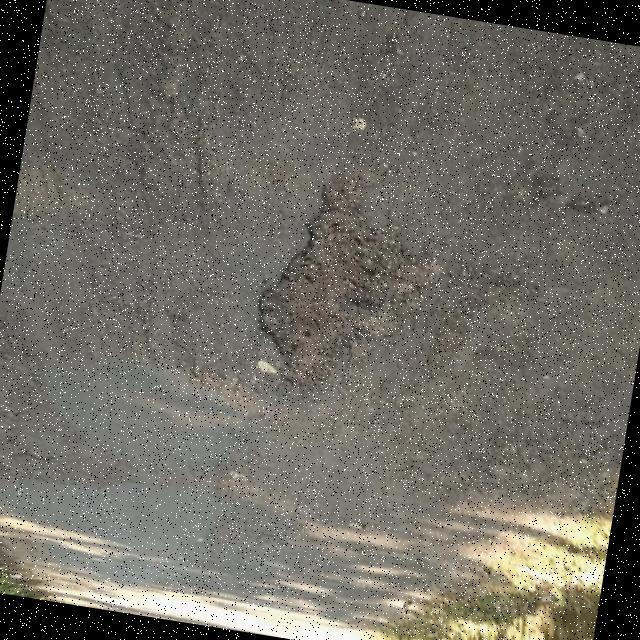Pothole: (260, 186, 439, 386)
